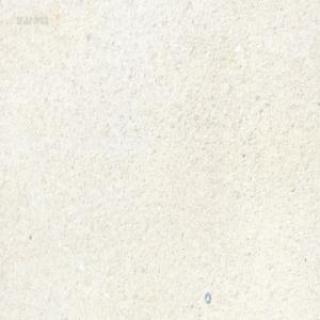Washertrack_idkeyframe: (204, 289, 210, 302)
